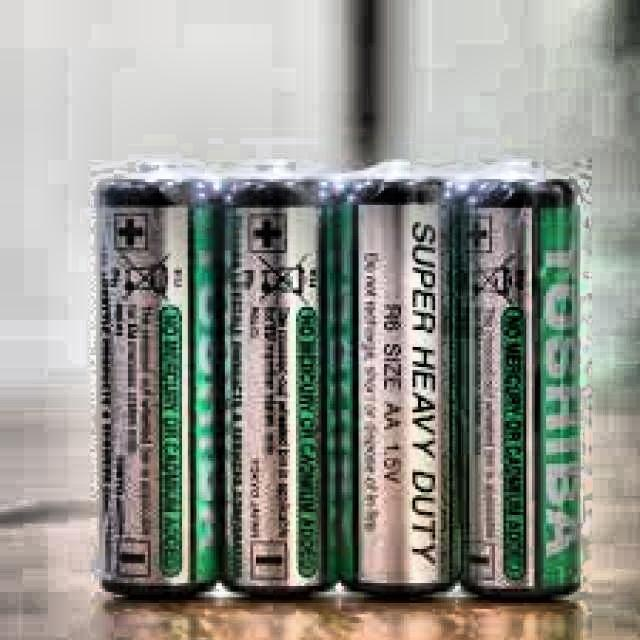battery: (451, 162, 581, 597), (100, 161, 224, 594), (334, 162, 455, 589), (216, 161, 329, 598)
